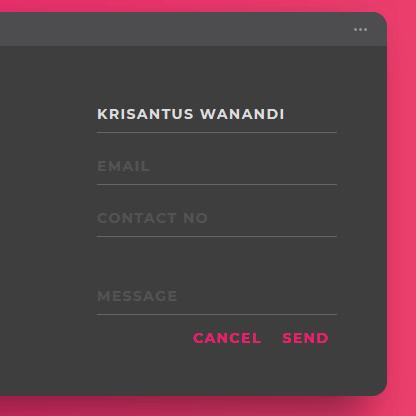field_line: (95, 105, 339, 136), (93, 157, 337, 188), (91, 288, 340, 318), (93, 210, 338, 239)
